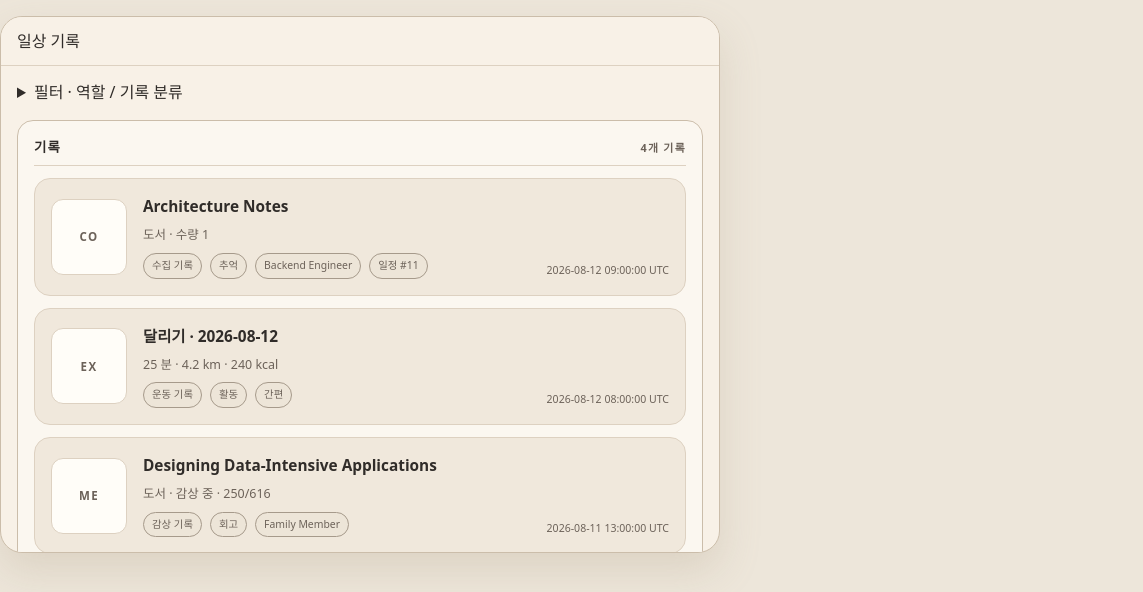
LifeLog Journal consumer surface › moves mobile keyboard focus into the detail while it loads
The width and height of the screenshot is (1143, 592).
Click the button with test id "journal-entry" that starts with "Architecture Notes". click: (89, 236)
box: [34,178,686,295]
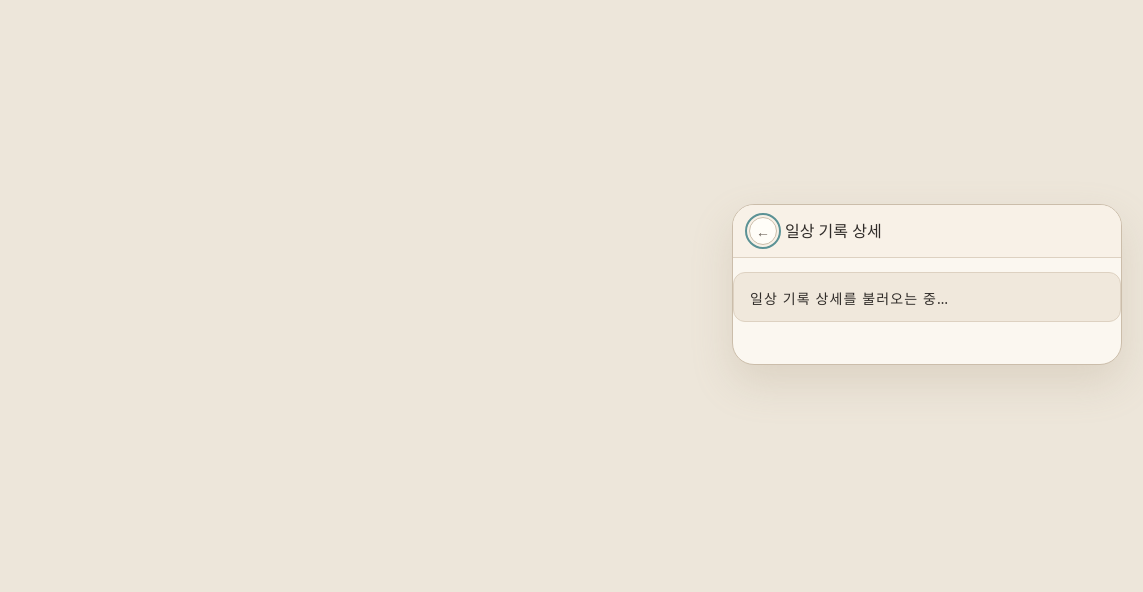
expect the text "일상 기록 상세를 불러오는 중…" is shown: met, box [750,288,949,308]
